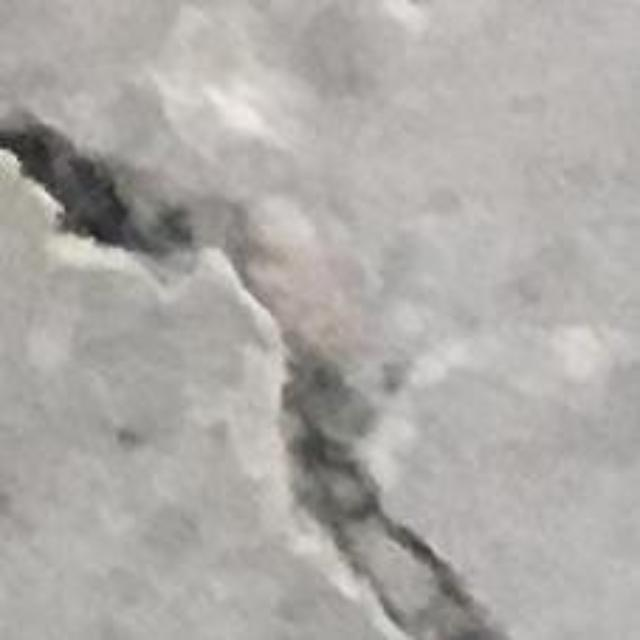crack: (0, 116, 501, 639)
